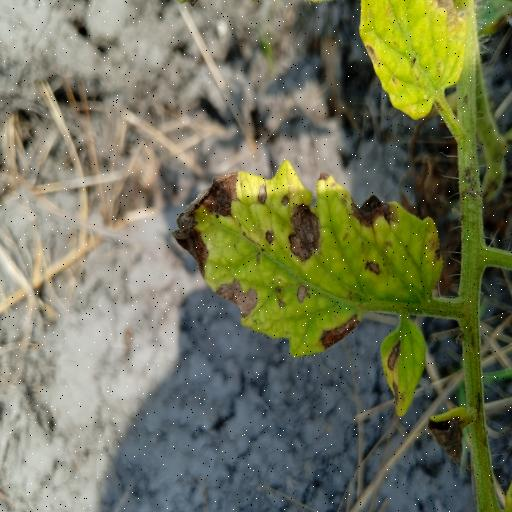Tomato_Brown_Spots: (168, 163, 448, 423)
